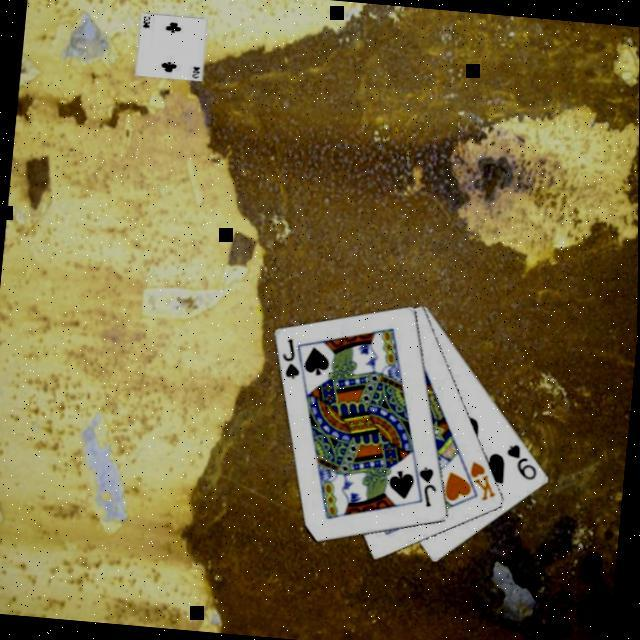9S: (501, 439, 542, 482)
JS: (277, 334, 305, 382), (413, 462, 441, 509)
KH: (463, 457, 501, 504)
